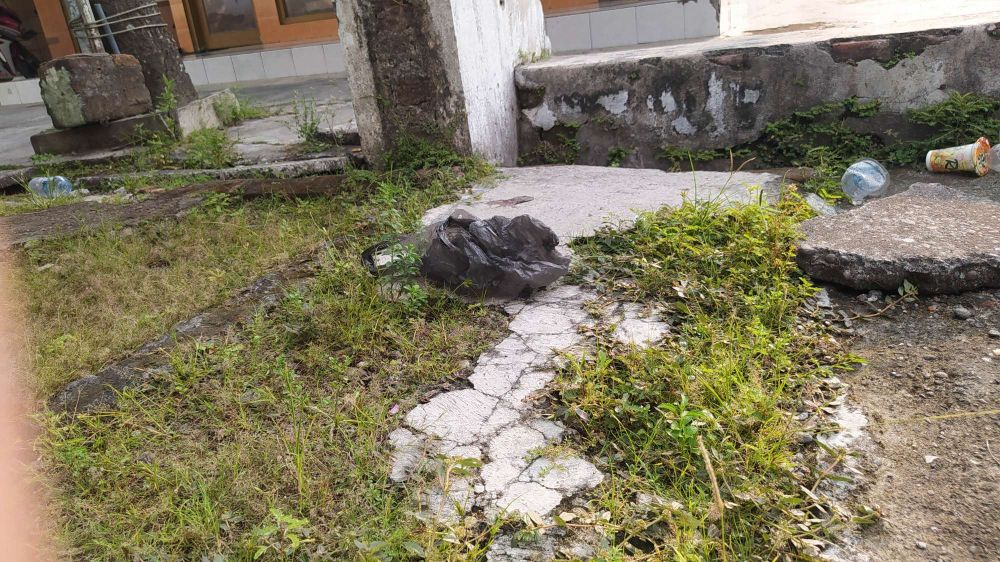botol: (22, 170, 77, 198)
plastik: (416, 211, 598, 300)
